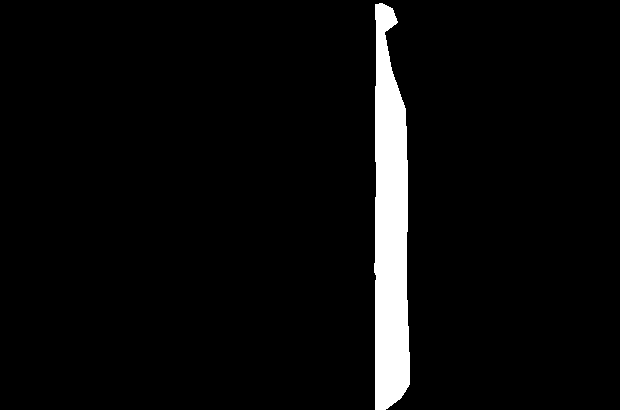type5: (370, 1, 415, 408)
